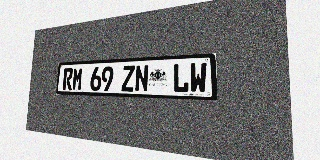6: (90, 67, 102, 91)
9: (101, 66, 114, 91)
L: (173, 63, 189, 93)
M: (72, 67, 83, 90)
N: (134, 65, 149, 92)
R: (62, 68, 73, 90)
W: (190, 62, 207, 93)
Z: (121, 65, 135, 92)
